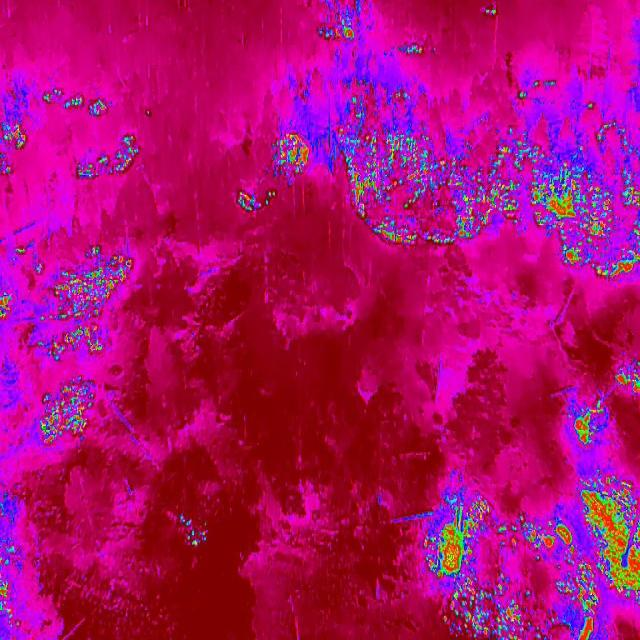fire: (328, 75, 640, 280), (35, 246, 139, 366), (441, 585, 608, 640), (580, 471, 640, 610), (420, 491, 498, 584), (36, 376, 99, 446), (497, 514, 584, 564), (40, 78, 112, 126), (76, 134, 140, 178), (266, 130, 314, 188), (0, 538, 19, 632), (1, 122, 28, 176), (176, 517, 215, 554), (613, 354, 640, 407), (574, 408, 608, 448), (237, 183, 278, 216), (314, 22, 361, 46), (399, 41, 428, 57), (0, 291, 12, 324), (14, 242, 26, 258), (142, 109, 156, 119), (486, 7, 498, 18)
